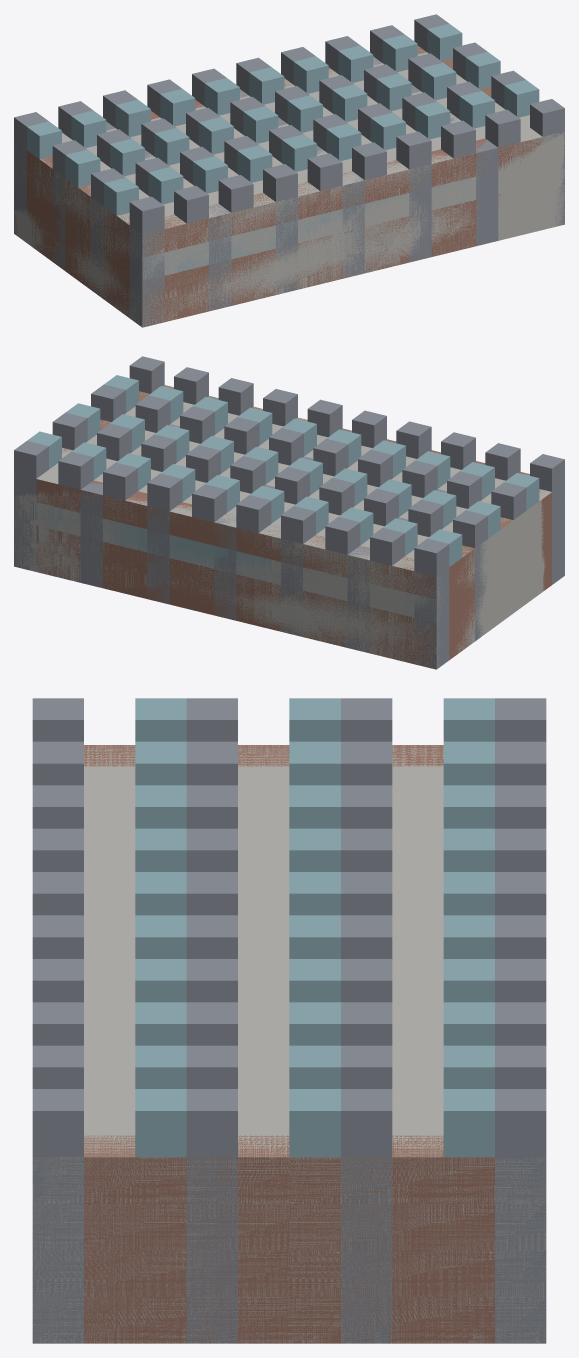
The model's file is warehouse.fbx.
3 views of the same model, one above another, from view 1: azimuth 30°, elevation 25°; view 2: azimuth 150°, elevation 25°; view 3: azimuth 270°, elevation 25° (orthographic). The views are drawn at different scales.
Parts seen in each view (by area): view 1: concrete_x00_y03_z05, concrete_x00_y00_z05, concrete_x05_y03_z05, concrete_x00_y02_z05, concrete_x10_y03_z05, concrete_x05_y01_z05, concrete_x05_y00_z05, concrete_x10_y01_z05, concrete_x10_y02_z05, concrete_x15_y03_z05, concrete_x05_y02_z05, concrete_x00_y01_z05 (+129 smaller); view 2: concrete_x00_y03_z00, concrete_x00_y00_z00, concrete_x00_y01_z00, concrete_x00_y02_z00, concrete_x05_y03_z00, concrete_x05_y00_z00, concrete_x05_y01_z00, concrete_x05_y02_z00, brick_x09_y03_z00, concrete_x00_y03_z05, concrete_x15_y02_z00, brick_x00_y03_z00 (+129 smaller); view 3: concrete_x15_y03_z05, concrete_x05_y03_z05, concrete_x10_y03_z05, concrete_x00_y03_z05, concrete_x15_y03_z00, brick_x18_y03_z01, brick_x18_y03_z04, brick_x18_y02_z01, brick_x18_y02_z04, brick_x18_y01_z01, brick_x18_y01_z04, brick_x18_y00_z04 (+103 smaller).
Part boxes in pixels (left/top/right/bottom): concrete_x00_y03_z05: left=78, top=163, right=253, bottom=256; concrete_x00_y00_z05: left=78, top=258, right=253, bottom=327; concrete_x05_y03_z05: left=213, top=141, right=364, bottom=229; concrete_x00_y02_z05: left=78, top=211, right=253, bottom=280; concrete_x10_y03_z05: left=302, top=108, right=475, bottom=202; concrete_x05_y01_z05: left=253, top=228, right=364, bottom=276; concrete_x05_y00_z05: left=253, top=251, right=364, bottom=299; concrete_x10_y01_z05: left=364, top=200, right=475, bottom=249; concrete_x10_y02_z05: left=364, top=176, right=475, bottom=226; concrete_x15_y03_z05: left=436, top=97, right=564, bottom=175; concrete_x05_y02_z05: left=253, top=204, right=364, bottom=253; concrete_x00_y01_z05: left=78, top=238, right=253, bottom=303; concrete_x00_y03_z00: left=325, top=511, right=500, bottom=598; concrete_x00_y00_z00: left=325, top=600, right=500, bottom=669; concrete_x00_y01_z00: left=325, top=576, right=500, bottom=644; concrete_x00_y02_z00: left=325, top=553, right=500, bottom=622; concrete_x05_y03_z00: left=215, top=478, right=363, bottom=572; concrete_x05_y00_z00: left=215, top=593, right=325, bottom=642; concrete_x05_y01_z00: left=214, top=569, right=325, bottom=618; concrete_x05_y02_z00: left=215, top=546, right=325, bottom=595; brick_x09_y03_z00: left=169, top=502, right=235, bottom=550; concrete_x00_y03_z05: left=411, top=467, right=551, bottom=552; concrete_x15_y02_z00: left=14, top=497, right=102, bottom=541; brick_x00_y03_z00: left=370, top=556, right=436, bottom=599; concrete_x15_y03_z05: left=32, top=1070, right=289, bottom=1203; concrete_x05_y03_z05: left=84, top=853, right=289, bottom=961; concrete_x10_y03_z05: left=84, top=962, right=289, bottom=1070; concrete_x00_y03_z05: left=84, top=745, right=289, bottom=853; concrete_x15_y03_z00: left=289, top=1070, right=546, bottom=1203; brick_x18_y03_z01: left=341, top=1135, right=494, bottom=1203; brick_x18_y03_z04: left=186, top=1135, right=340, bottom=1203; brick_x18_y02_z01: left=341, top=1204, right=494, bottom=1250; brick_x18_y02_z04: left=186, top=1204, right=340, bottom=1250; brick_x18_y01_z01: left=341, top=1250, right=494, bottom=1296; brick_x18_y01_z04: left=186, top=1250, right=340, bottom=1296; brick_x18_y00_z04: left=186, top=1297, right=340, bottom=1343.
Bounding box in the file's own units: 57 × 15 × 30.
